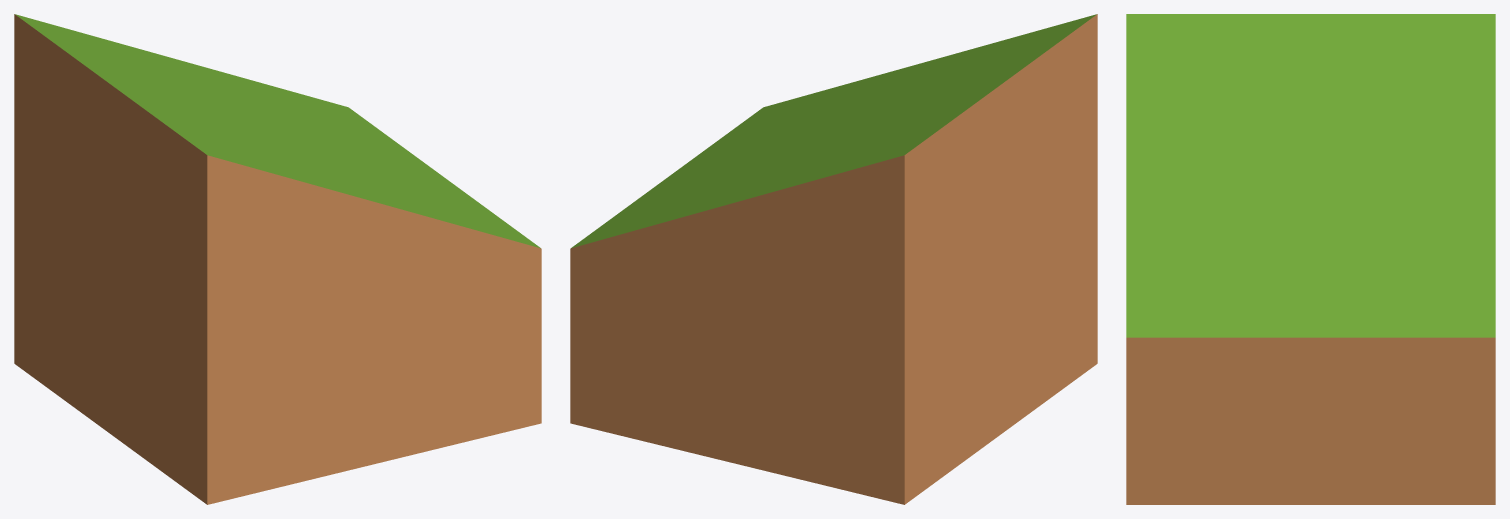
File: Ground_03.fbx
The picture shows the model from 3 angles, left to right: view 1: azimuth 30°, elevation 25°; view 2: azimuth 150°, elevation 25°; view 3: azimuth 270°, elevation 25°; orthographic projection. The views are drawn at different scales.
Parts seen in each view (by area): view 1: Ground_03; view 2: Ground_03; view 3: Ground_03.
Boxes of the visible parts, box(x1,y1,x2,y2) form: Ground_03: box(14, 14, 541, 504); Ground_03: box(570, 14, 1097, 504); Ground_03: box(1126, 14, 1495, 504).
Size of the model in its own units: 100 by 100 by 100.
